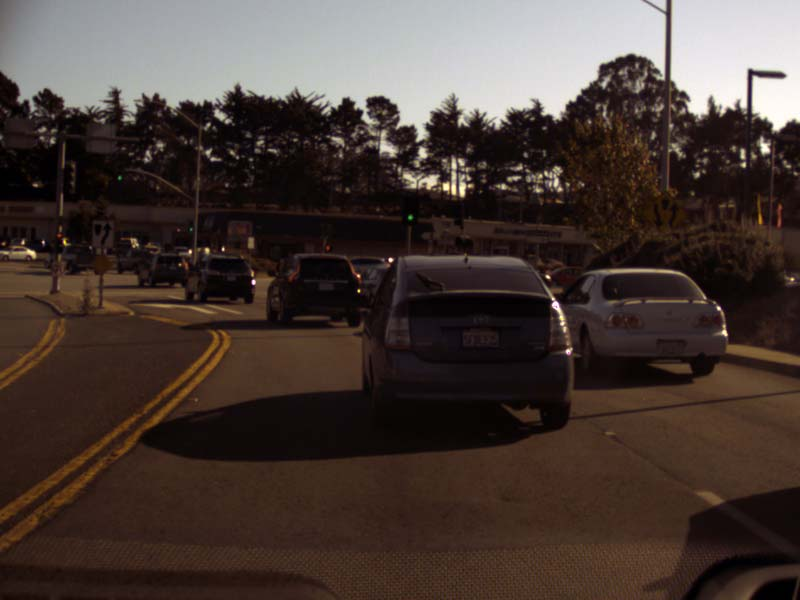Green: (403, 195, 416, 224), (115, 163, 124, 181), (187, 219, 194, 232)
Red: (54, 231, 63, 252)
